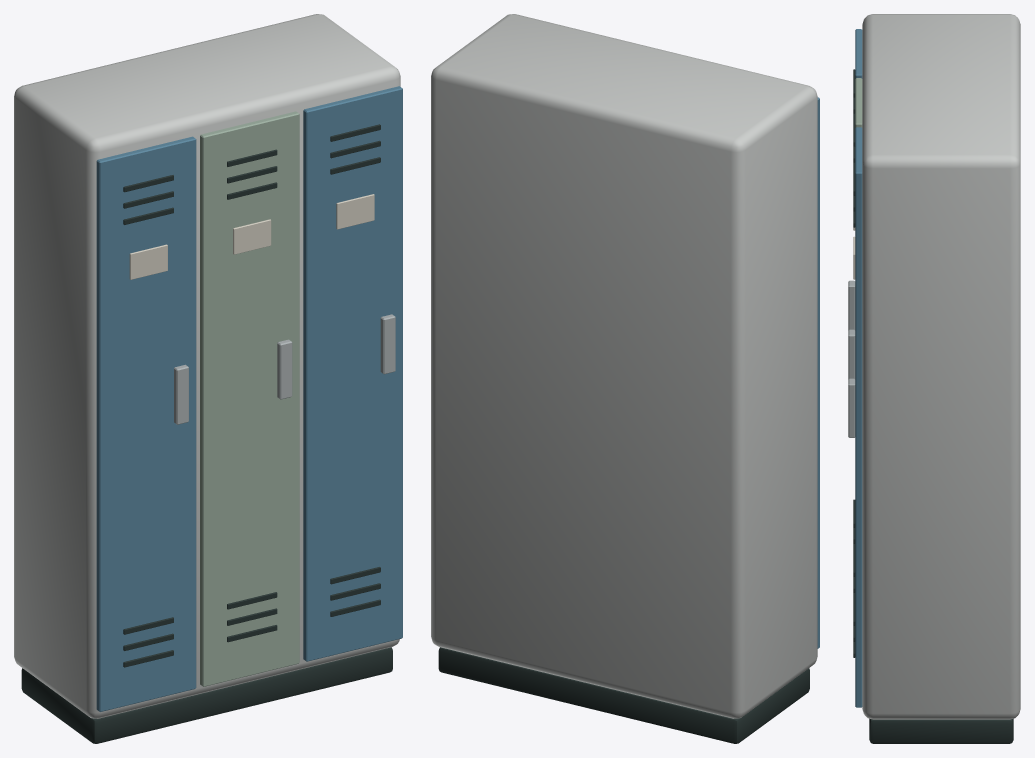
Rendered from locker.glb.
3 renders of one model, left to right at view 1: azimuth 30°, elevation 25°; view 2: azimuth 150°, elevation 25°; view 3: azimuth 270°, elevation 25°, orthographic. The views are drawn at different scales.
Visible parts, largest first — view 1: locker; view 2: locker; view 3: locker.
Part boxes in pixels (bbox=[...]): locker: bbox=[14, 14, 402, 743]; locker: bbox=[431, 14, 819, 743]; locker: bbox=[848, 14, 1020, 743].
Bounding box in the file's own units: 1 × 1.85 × 0.49.
